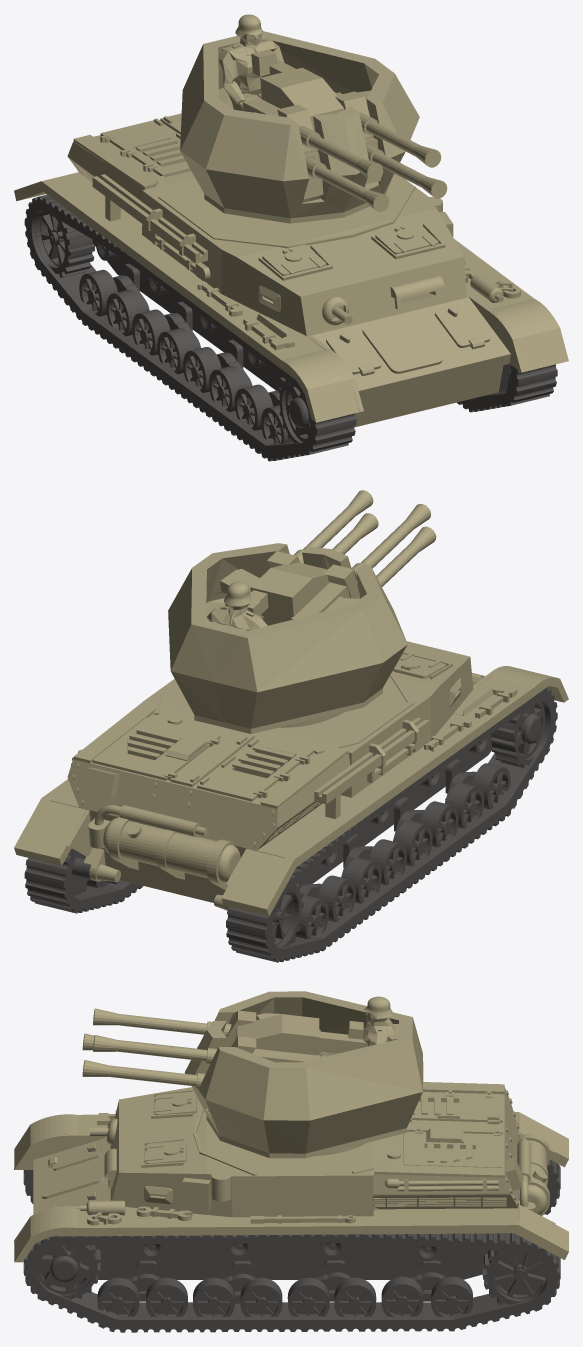
File: wirbel.glb
The picture shows the model from 3 angles, top to bottom: view 1: azimuth 30°, elevation 25°; view 2: azimuth 150°, elevation 25°; view 3: azimuth 270°, elevation 25°; orthographic projection. The views are drawn at different scales.
Parts seen in each view (by area): view 1: hull, track, turret, gun; view 2: hull, track, turret, gun; view 3: hull, track, turret, gun.
Part boxes in pixels (left/top/right/bottom): hull: left=14, top=113, right=568, bottom=427; track: left=24, top=194, right=557, bottom=461; turret: left=180, top=14, right=419, bottom=223; gun: left=243, top=49, right=447, bottom=211; hull: left=14, top=641, right=568, bottom=916; track: left=24, top=687, right=557, bottom=962; turret: left=168, top=543, right=407, bottom=733; gun: left=220, top=490, right=436, bottom=625; hull: left=14, top=1082, right=568, bottom=1262; track: left=23, top=1160, right=560, bottom=1332; turret: left=184, top=991, right=423, bottom=1158; gun: left=82, top=1008, right=368, bottom=1111.
Bounding box in the file's own units: 2.89 × 3.37 × 5.98.
